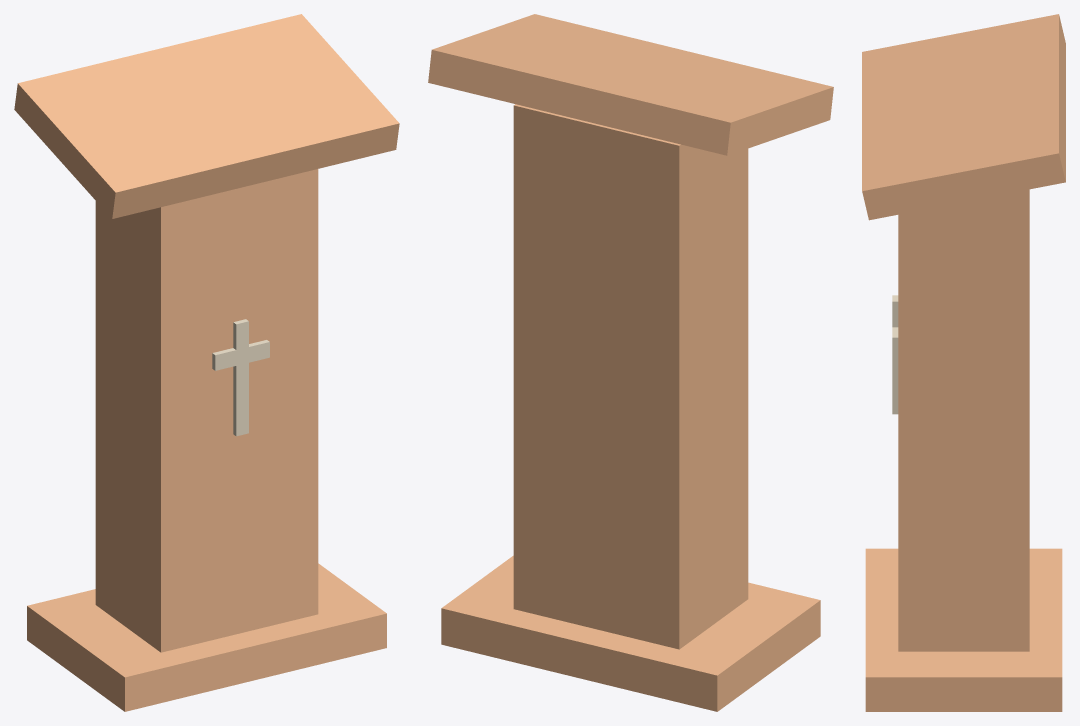
3 views of the same model, side by side, from view 1: azimuth 30°, elevation 25°; view 2: azimuth 150°, elevation 25°; view 3: azimuth 270°, elevation 25° (orthographic). The views are drawn at different scales.
Parts seen in each view (by area): view 1: Body, Reading top, Foot, Cross upright, Cross arm; view 2: Body, Reading top, Foot; view 3: Body, Reading top, Foot, Cross upright.
Part boxes in pixels (x1,y1,x2,y2): Body: [95, 169, 318, 652]; Reading top: [14, 14, 399, 218]; Foot: [27, 563, 386, 711]; Cross upright: [233, 319, 248, 436]; Cross arm: [212, 340, 269, 370]; Body: [513, 104, 748, 649]; Reading top: [428, 14, 833, 155]; Foot: [441, 555, 820, 711]; Body: [898, 189, 1029, 651]; Reading top: [862, 14, 1065, 220]; Foot: [865, 548, 1062, 711]; Cross upright: [892, 295, 898, 414].
Bounding box in the file's own units: 0.663 × 1.25 × 0.4097.
1 material, 1 textured.
